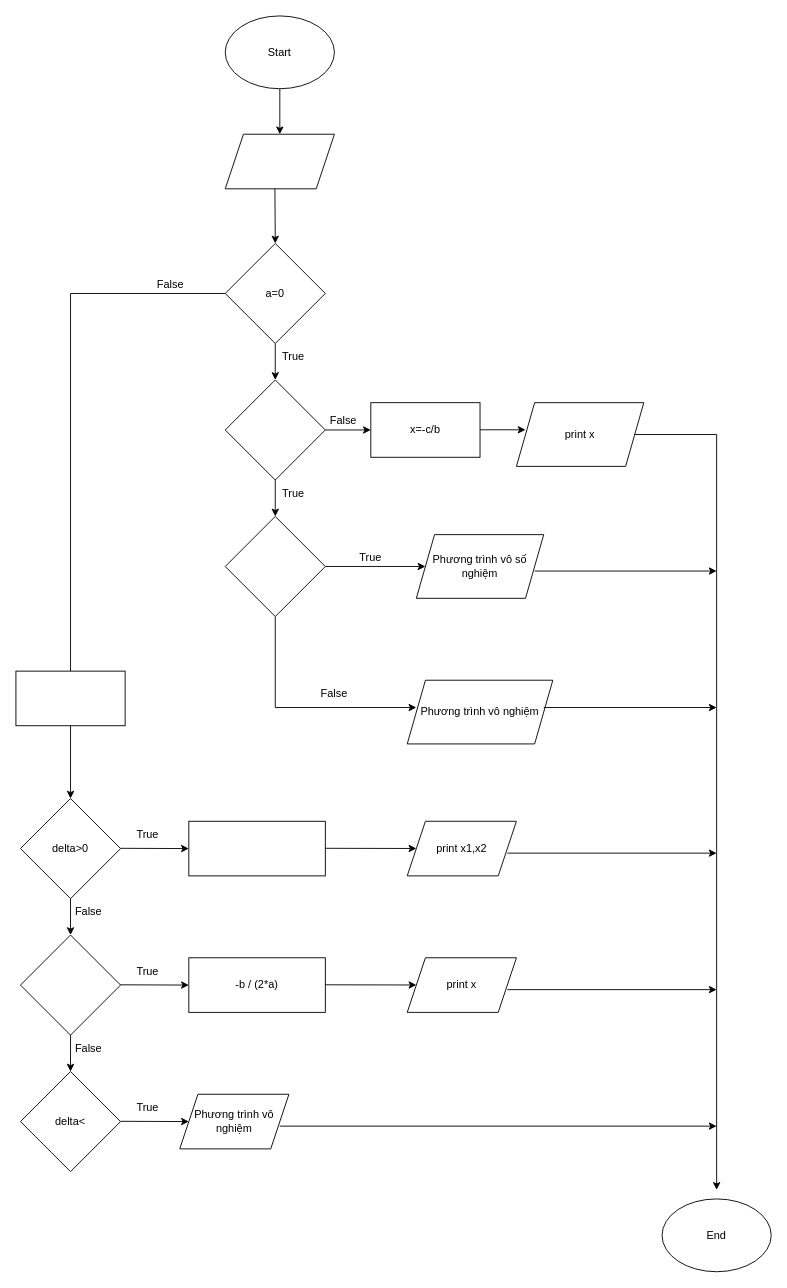
This 787x1288 diagram has some shape labels left out. Here are the shapes that lost their labels. From the top down, the centre of each, then its label:
[279,161]: Input a,b,c
[274,429]: b=0
[274,566]: c=0
[70,698]: delta=b**2-4a*
[256,848]: x1=(-b + math.sqrt(delta)) / ( 2 *a) x2=(-b - math.sqrt(delta)) / ( 2 *a)
[70,984]: delta=0
